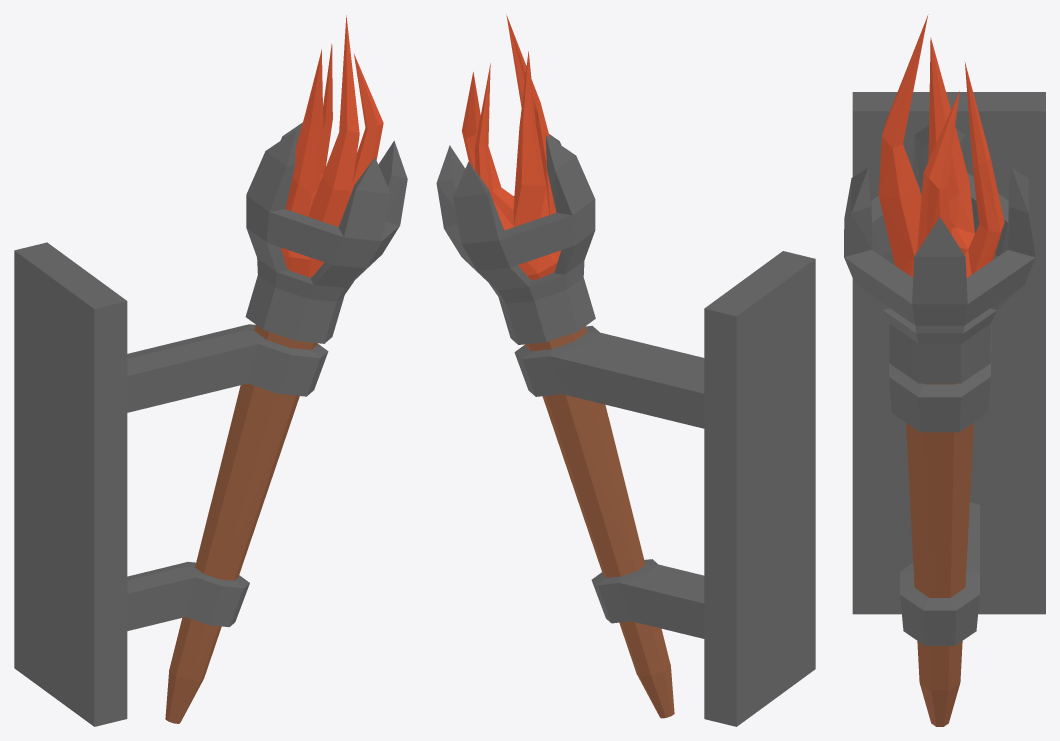
The model's file is Torch_wall.glb.
3 renders of one model, left to right at view 1: azimuth 30°, elevation 25°; view 2: azimuth 150°, elevation 25°; view 3: azimuth 270°, elevation 25°, orthographic. The views are drawn at different scales.
Parts seen in each view (by area): view 1: Torch; view 2: Torch; view 3: Torch.
Boxes of the visible parts, box(x1,y1,x2,y2) form: Torch: box(14, 15, 407, 726); Torch: box(436, 14, 815, 726); Torch: box(844, 14, 1045, 726).
Size of the model in its own units: 1.1 by 2.08 by 0.4704.
